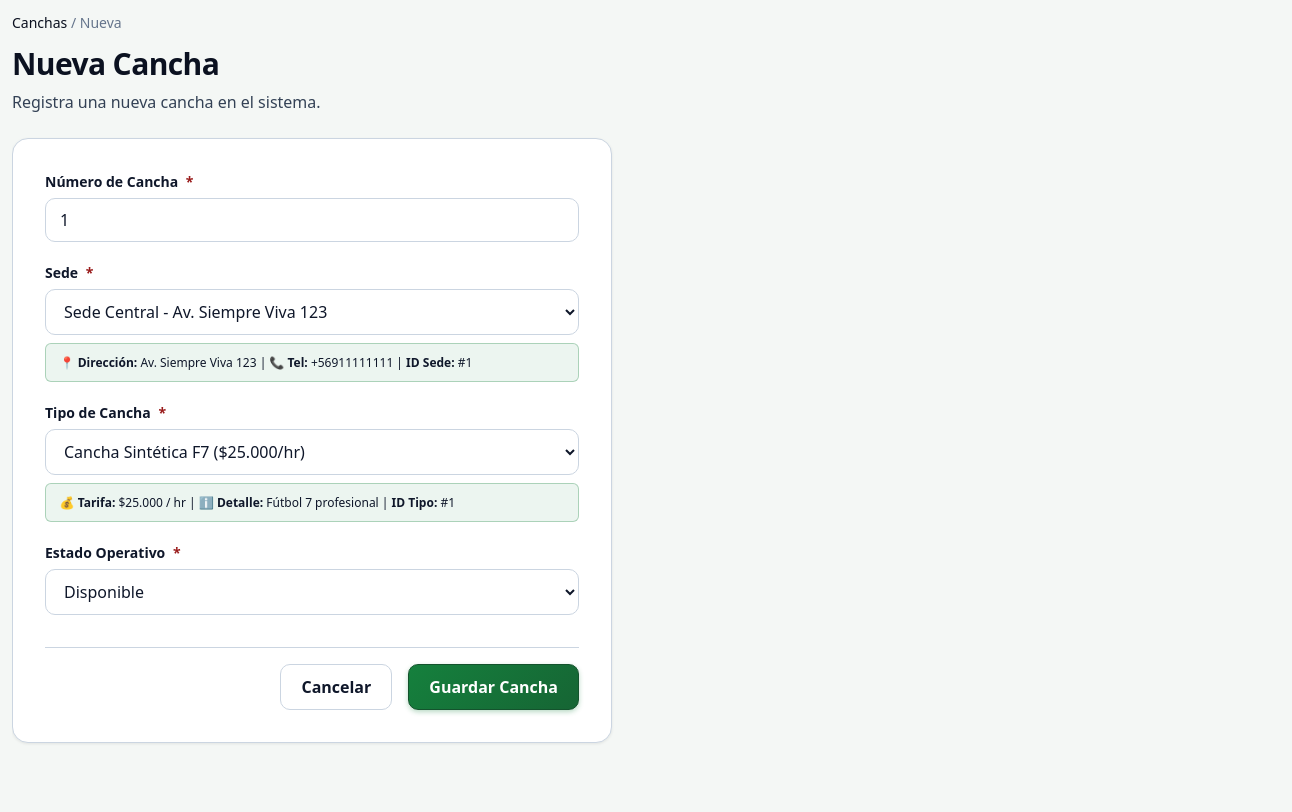
Test case: CanchaFormPage – Creación y validación de canchas › muestra error de validación retornado por el servidor (400)
El número 999 está configurado en MSW para responder 400 con error específico
Replace the text in the number field labelled "Número de Cancha *" with "999" at (312, 220), box [45,198,579,242]
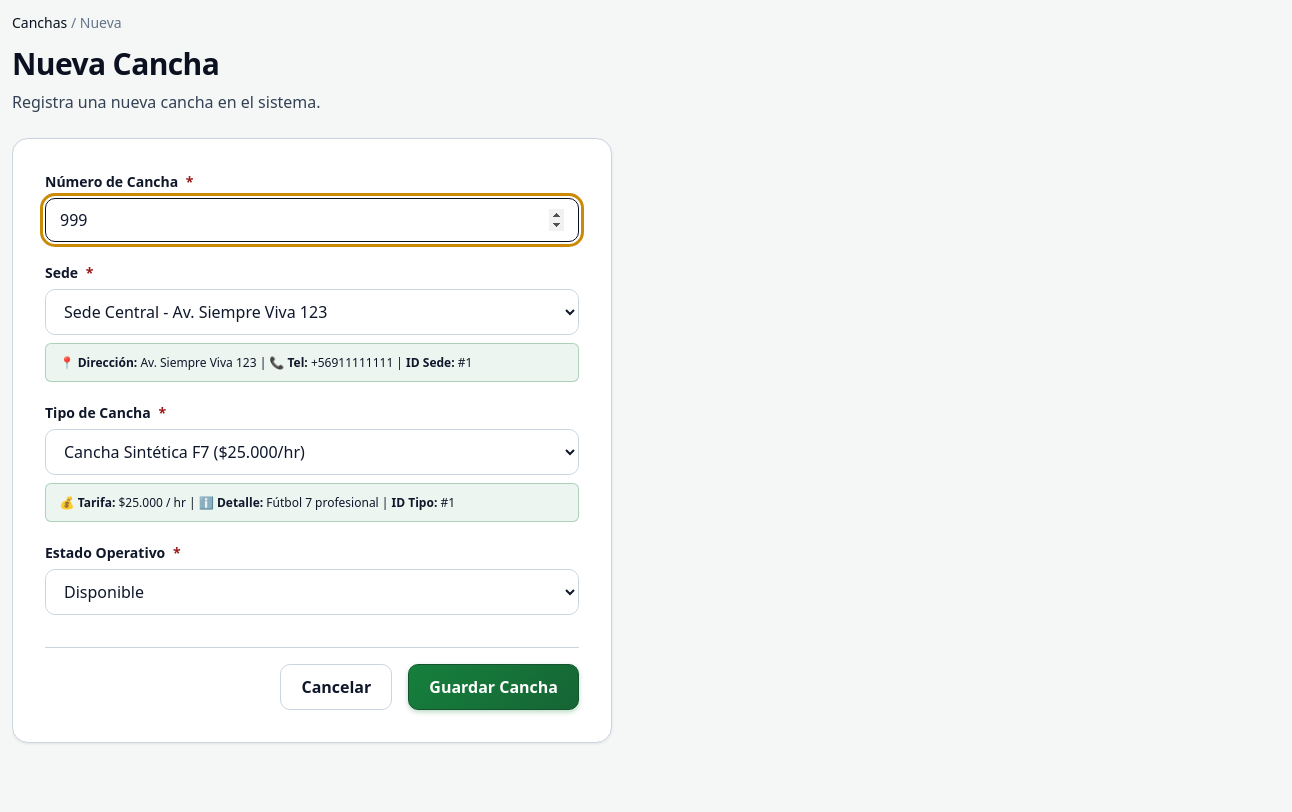
Click the button "Guardar Cancha" at (494, 687), box [408,664,579,710]
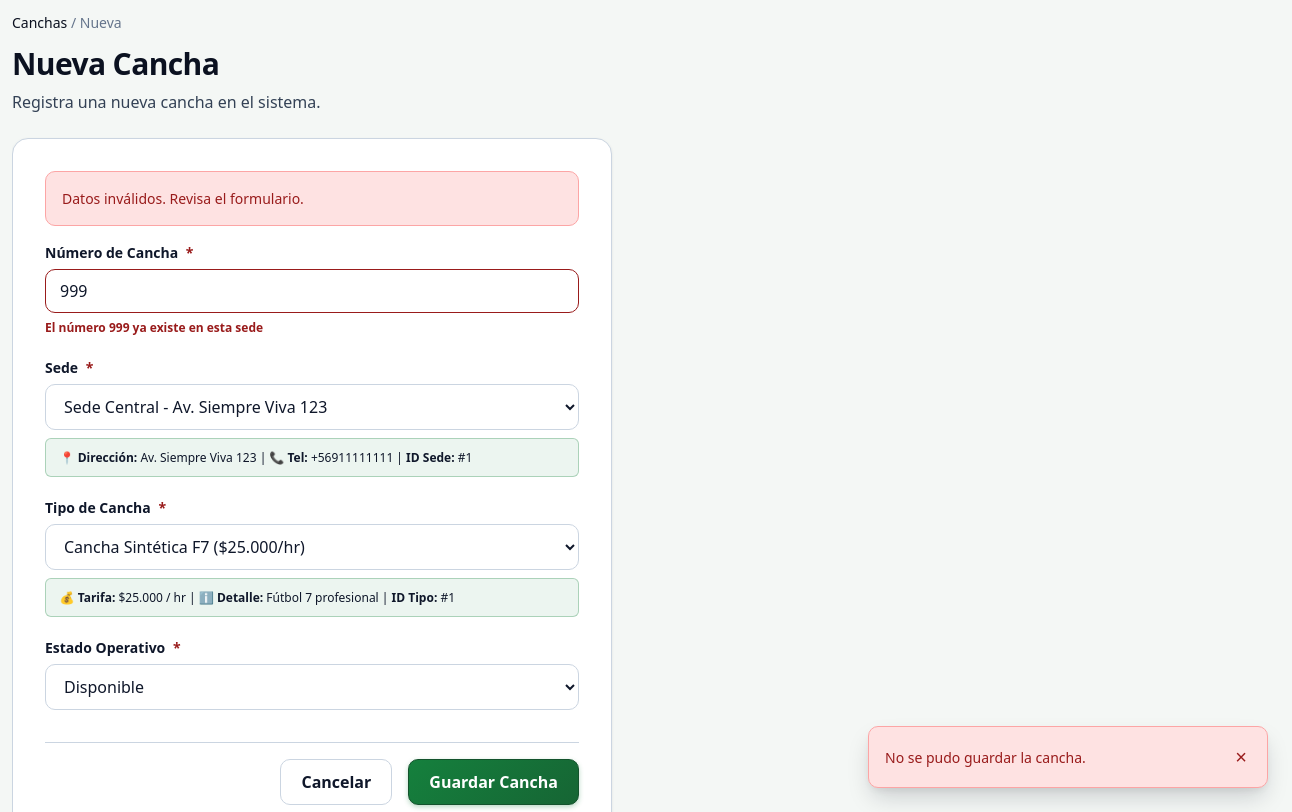
expect the text "El número 999 ya existe en esta sede" is shown: met, box [45,319,263,336]
expect the text "Datos inválidos. Revisa el formulario." is shown: met, box [45,171,579,226]
